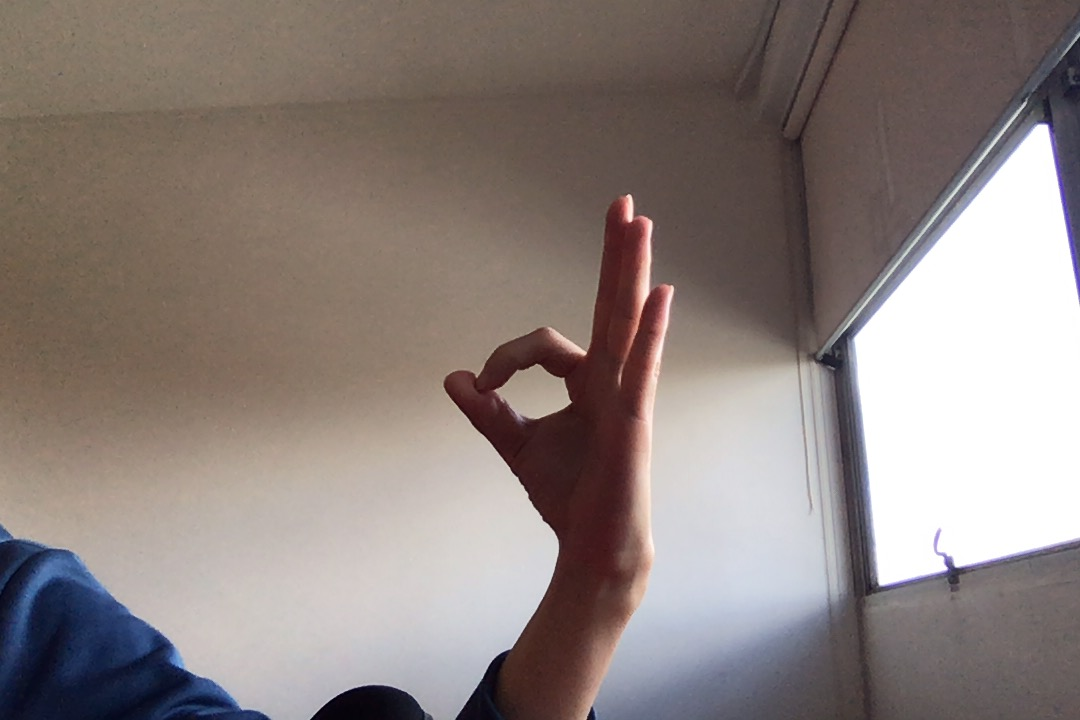oksign: (436, 187, 686, 576)
